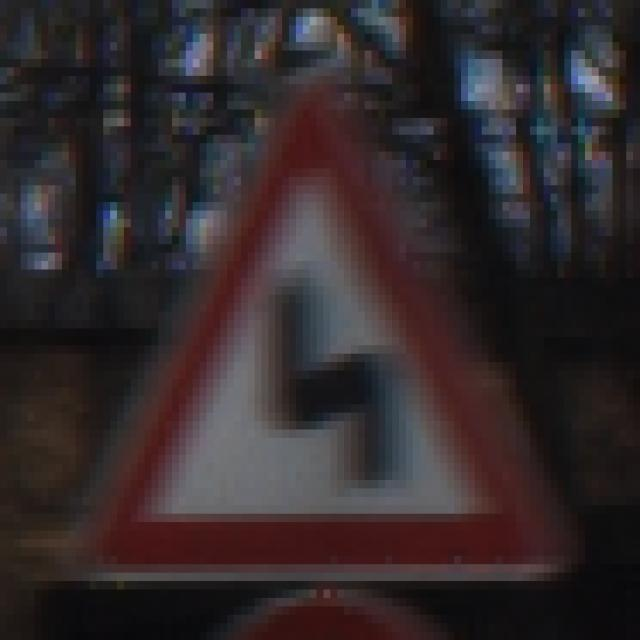left reverse bend: (53, 94, 573, 569)
